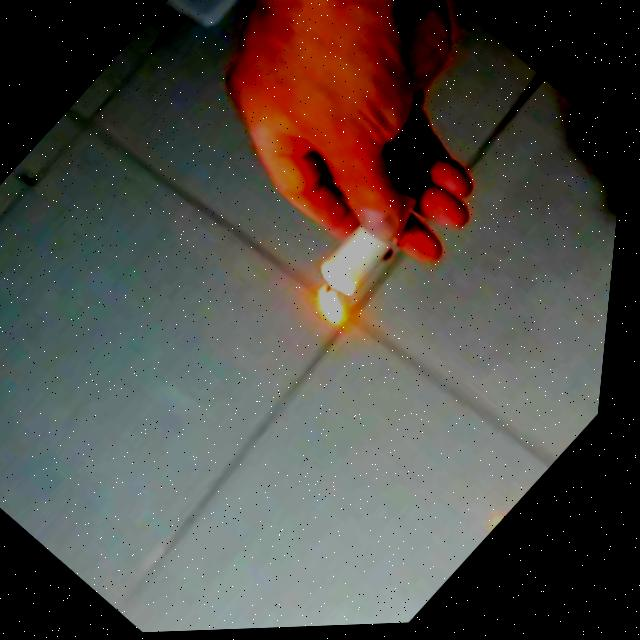Fire: (301, 278, 366, 339)
